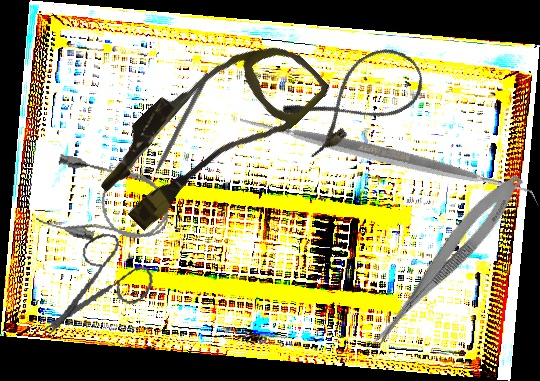Cannula: (85, 7, 333, 252), (278, 36, 434, 162), (33, 151, 178, 257)
Iris Scissors: (39, 225, 160, 355)
Micro Scissor: (362, 166, 529, 363)
Pusher: (143, 71, 211, 190)
Spatula Surgical: (233, 5, 540, 308)
